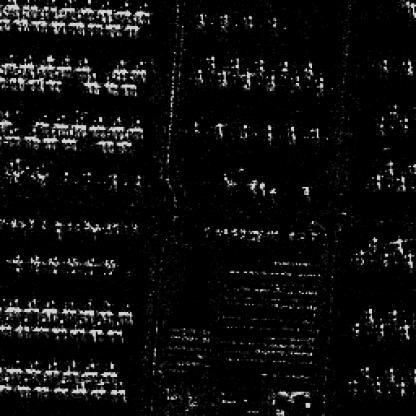airplane: (3, 252, 26, 276), (73, 57, 94, 78), (58, 132, 80, 151), (68, 112, 91, 130), (106, 114, 127, 133), (114, 0, 133, 21), (130, 62, 150, 81), (107, 60, 128, 78), (75, 0, 96, 18), (55, 55, 73, 75), (38, 54, 56, 74), (38, 0, 58, 18), (57, 0, 75, 20), (94, 136, 116, 152), (125, 114, 143, 133), (94, 2, 112, 21), (133, 2, 151, 21), (90, 112, 107, 132), (396, 320, 413, 340), (31, 114, 52, 130), (26, 255, 44, 273), (97, 302, 117, 318), (60, 301, 80, 317), (106, 380, 125, 396), (68, 380, 88, 395), (19, 297, 39, 312), (0, 110, 15, 130), (302, 60, 317, 80), (99, 362, 117, 378), (52, 317, 68, 335), (106, 320, 124, 336), (116, 304, 134, 320), (78, 300, 94, 318), (84, 255, 100, 273), (0, 55, 16, 73), (66, 21, 84, 37), (50, 379, 70, 393), (81, 80, 101, 94), (374, 115, 388, 135), (367, 379, 387, 393), (70, 318, 86, 335), (13, 377, 31, 392), (47, 255, 62, 273), (117, 133, 132, 151), (120, 81, 138, 96), (284, 122, 298, 141), (11, 18, 31, 31), (5, 358, 21, 374), (23, 359, 39, 375), (42, 359, 58, 375), (5, 299, 21, 315), (65, 257, 81, 273), (102, 257, 118, 273), (18, 57, 34, 73), (21, 0, 37, 16), (239, 13, 255, 29), (358, 364, 374, 380), (39, 301, 57, 315), (54, 110, 68, 128), (100, 80, 118, 94), (104, 23, 122, 37), (86, 22, 104, 36), (263, 15, 281, 29), (252, 57, 266, 75), (395, 174, 409, 192), (82, 362, 98, 377), (90, 380, 106, 395), (89, 320, 104, 336), (263, 75, 278, 91), (48, 21, 66, 34), (346, 378, 359, 396), (44, 76, 63, 88), (279, 57, 291, 76), (263, 122, 275, 141), (366, 235, 378, 254), (385, 307, 400, 322), (32, 378, 48, 392), (62, 361, 78, 375), (15, 318, 31, 332), (32, 319, 48, 333), (304, 124, 320, 138), (388, 101, 402, 117), (370, 172, 384, 188), (25, 78, 42, 91), (3, 0, 20, 13), (192, 69, 206, 84), (228, 55, 242, 70), (392, 235, 403, 254), (41, 135, 57, 148), (216, 70, 229, 86), (403, 250, 414, 268), (364, 307, 375, 325), (352, 249, 366, 263), (0, 315, 13, 330), (239, 72, 252, 87), (291, 72, 304, 87), (395, 380, 408, 395), (31, 20, 47, 32), (203, 56, 219, 68), (211, 119, 223, 135), (400, 116, 412, 132), (384, 160, 396, 176), (124, 23, 141, 34), (218, 12, 228, 30), (404, 2, 414, 20), (384, 367, 396, 382), (0, 375, 11, 391), (195, 10, 206, 26), (379, 252, 390, 268), (351, 320, 362, 336), (3, 132, 20, 142), (7, 76, 21, 88), (402, 59, 414, 73), (376, 322, 388, 336), (0, 17, 11, 32), (21, 133, 37, 143), (239, 122, 249, 138), (380, 55, 390, 70), (314, 76, 324, 90), (188, 118, 198, 132), (73, 221, 83, 232), (54, 219, 62, 232), (81, 219, 91, 229), (0, 216, 8, 228), (10, 216, 18, 228), (18, 216, 26, 228), (91, 223, 101, 232), (65, 221, 73, 232), (26, 218, 34, 228), (112, 223, 119, 234), (104, 223, 112, 232), (39, 219, 45, 229), (390, 0, 406, 2), (413, 308, 414, 326), (413, 102, 414, 117)
